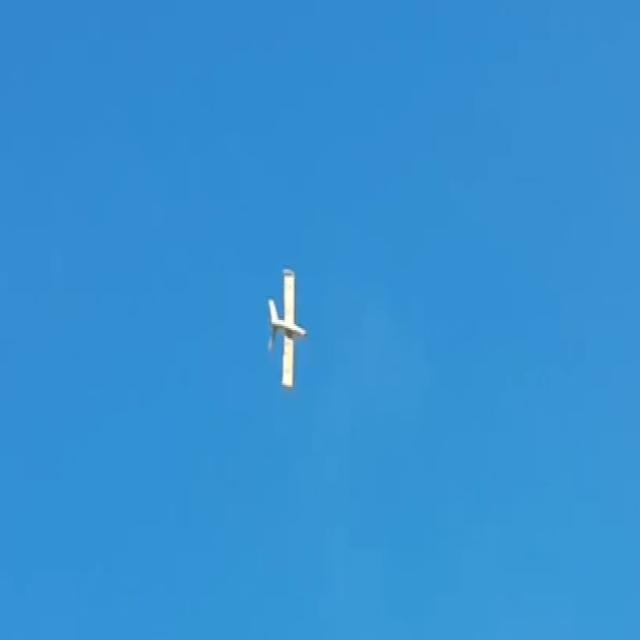iha: (266, 260, 309, 393)
